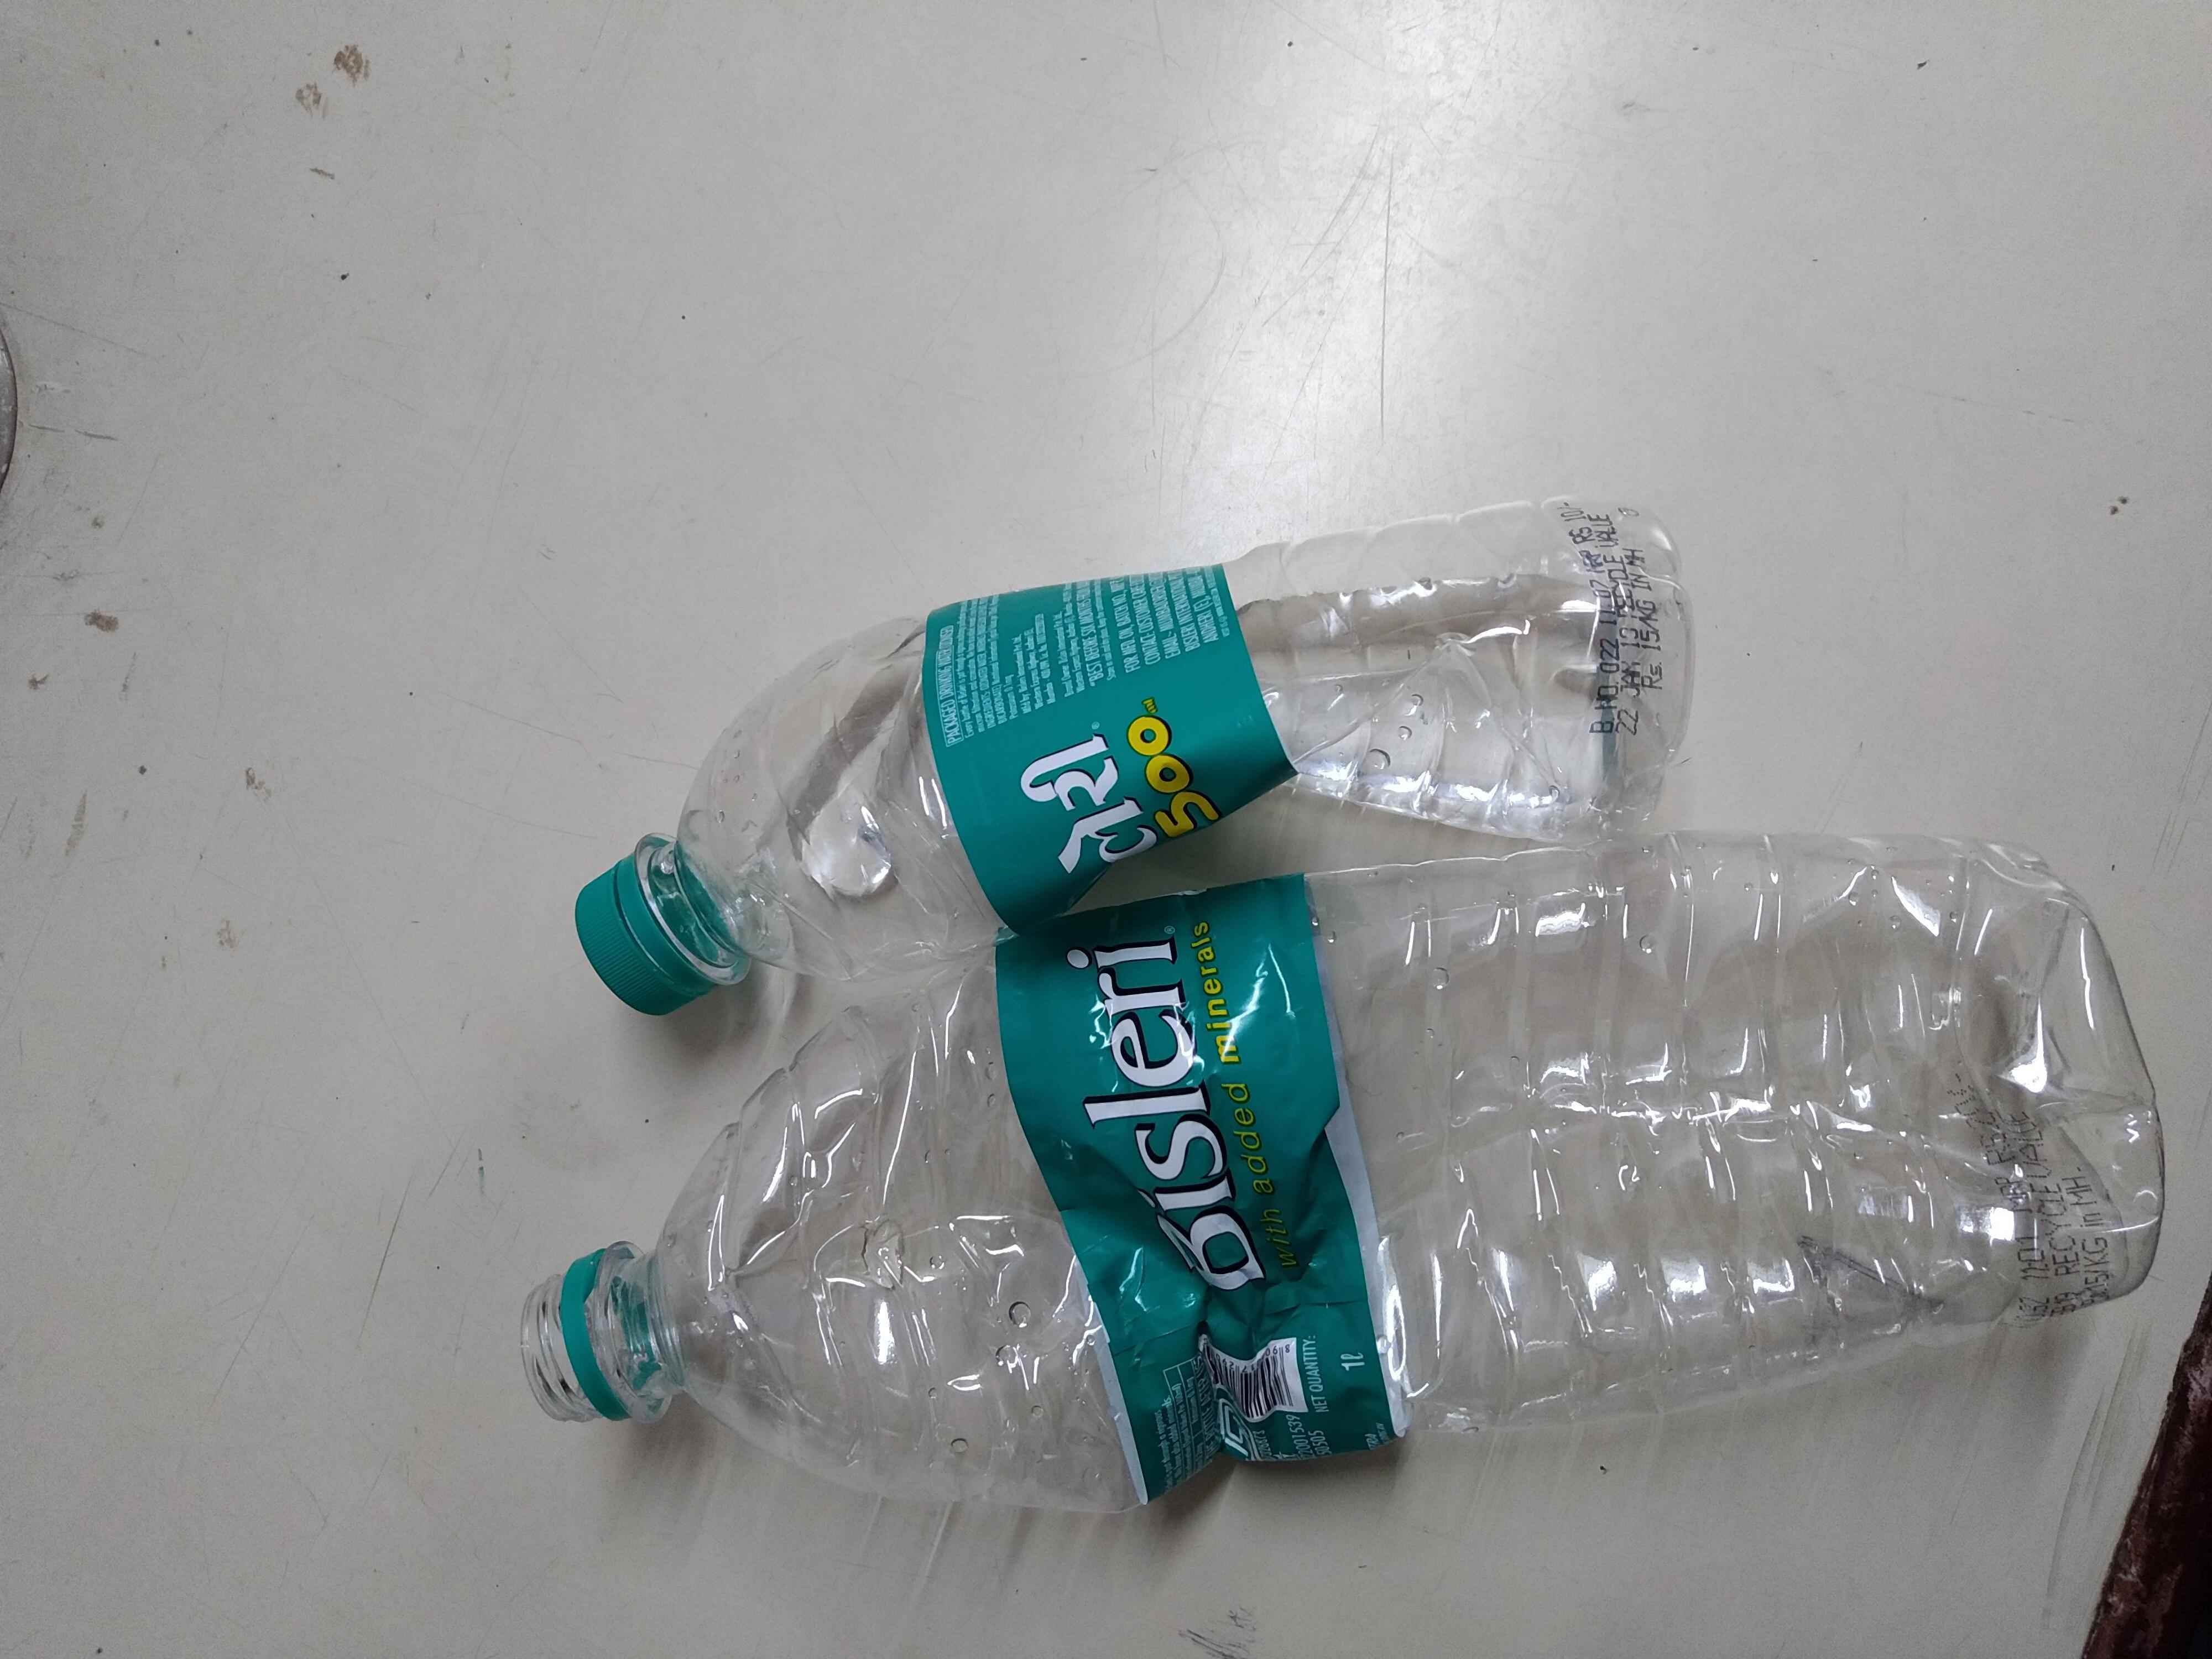Bisleri: (1055, 896, 1360, 1396), (1021, 676, 1231, 884)
